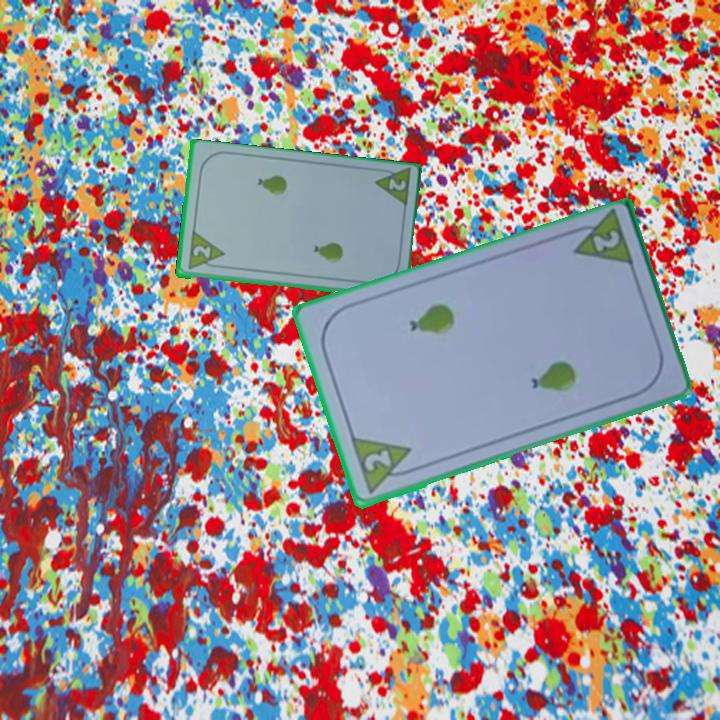2p: (346, 434, 420, 498), (184, 230, 227, 273), (588, 226, 623, 256), (385, 175, 409, 194)
